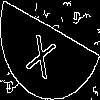X: (25, 25, 60, 80)
